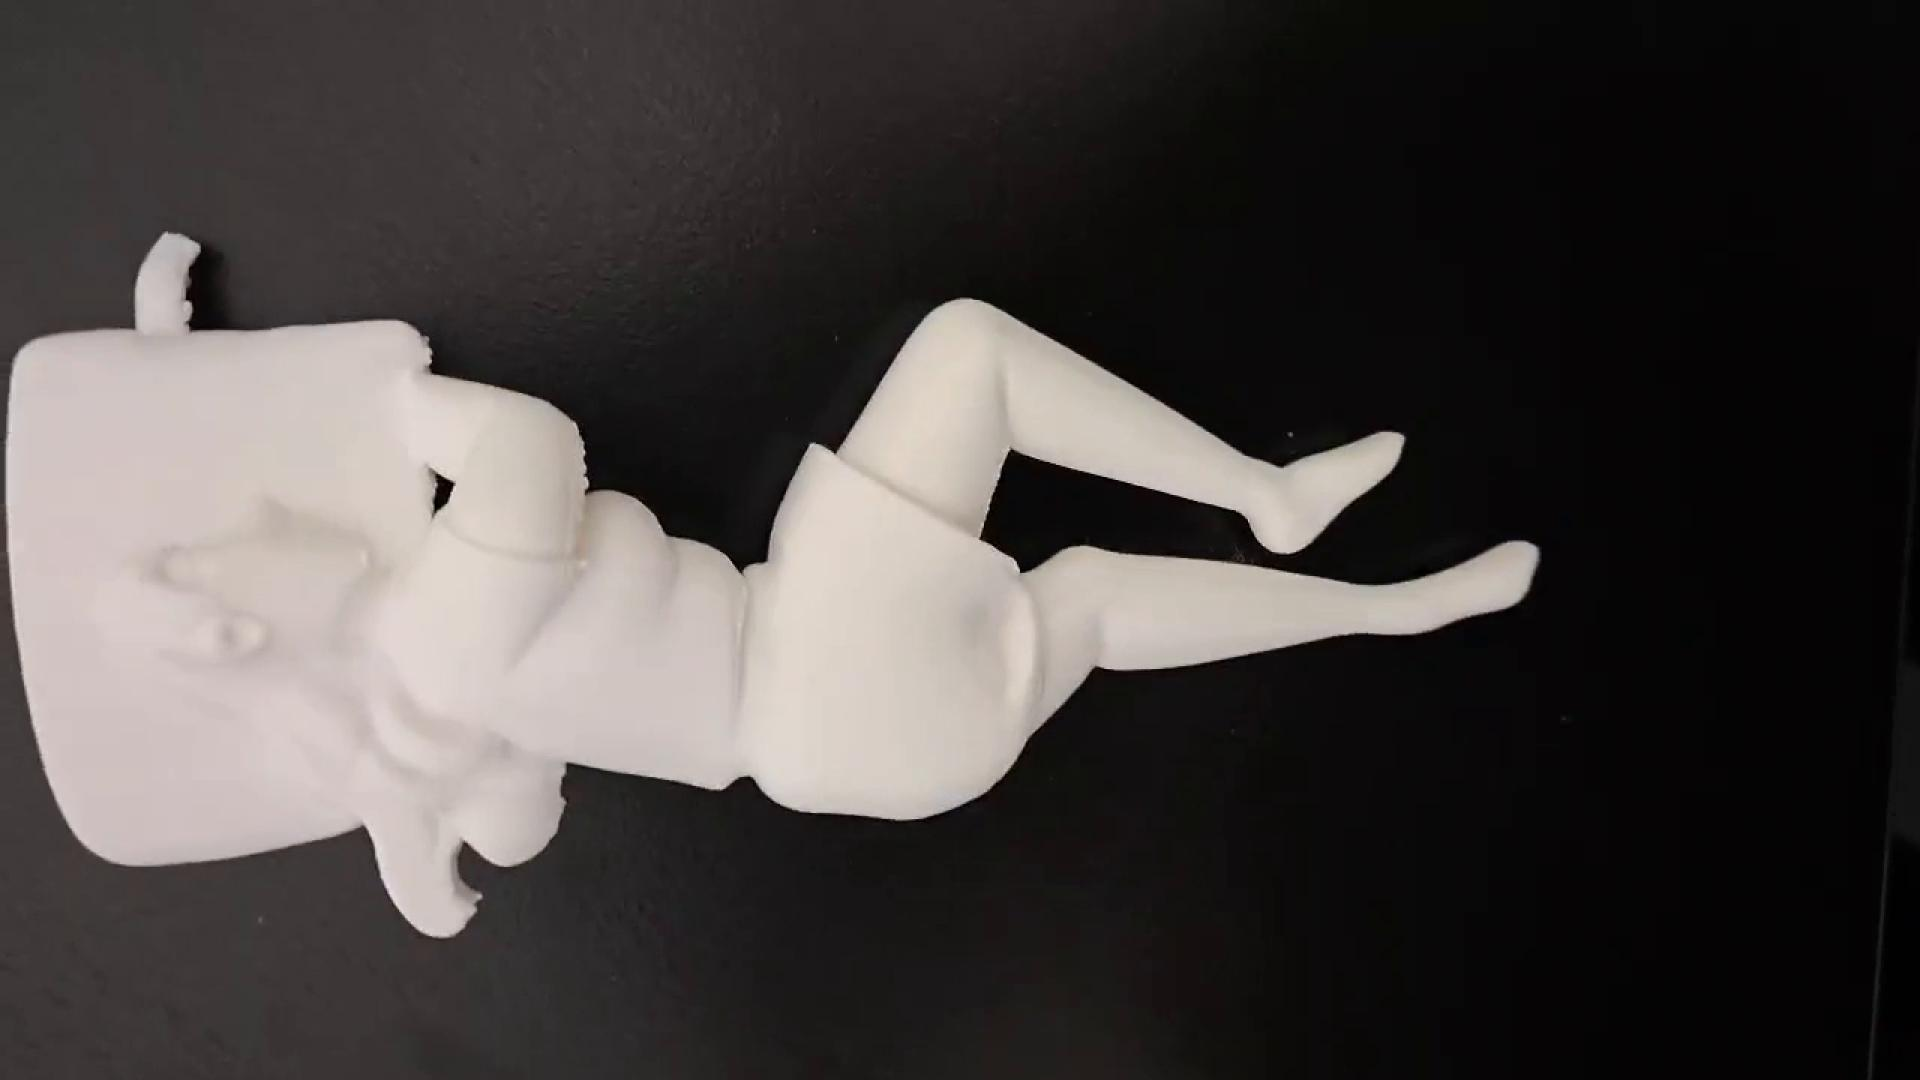Good-style: (4, 185, 1636, 1011)
